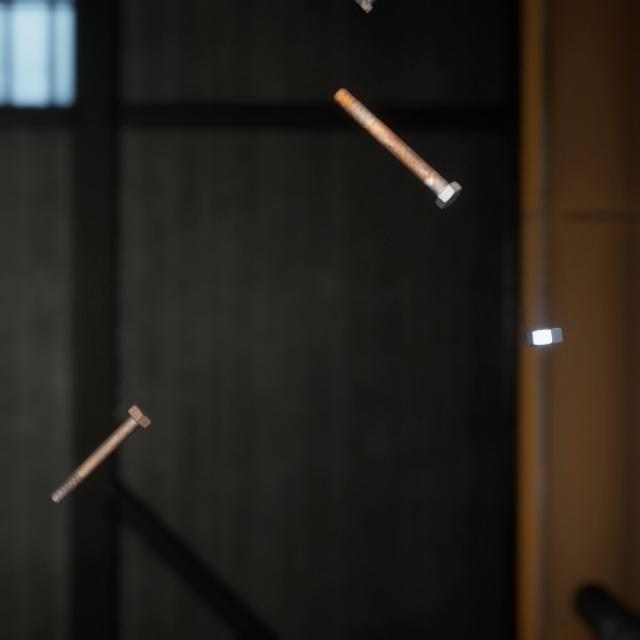bolt: (329, 71, 466, 201), (45, 377, 157, 488)
nut: (521, 304, 567, 332)
